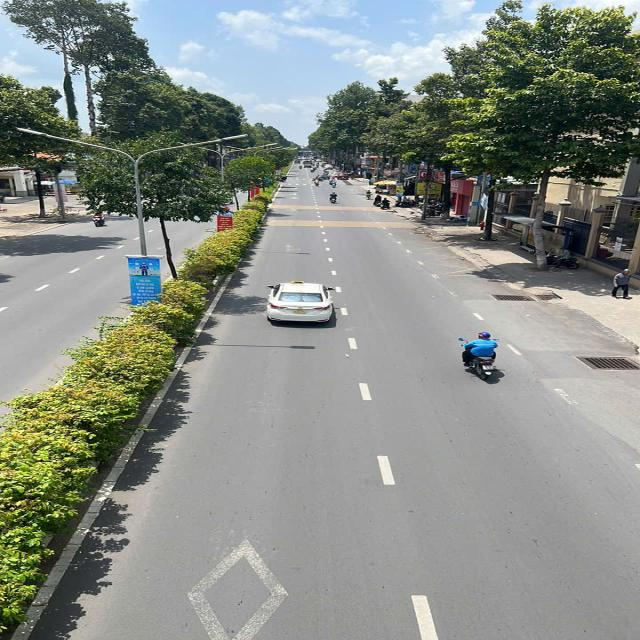Bicycle: (367, 189, 372, 200)
Truck: (304, 161, 312, 168)
car: (270, 280, 335, 329), (335, 174, 349, 179), (334, 171, 345, 177), (324, 165, 333, 169)
motobyte: (455, 327, 508, 385), (330, 192, 337, 203), (383, 198, 389, 209), (376, 195, 380, 206), (332, 182, 338, 188), (315, 179, 320, 186), (310, 168, 314, 172), (298, 166, 302, 170)
non-motorized vehicle: (322, 172, 331, 180)
